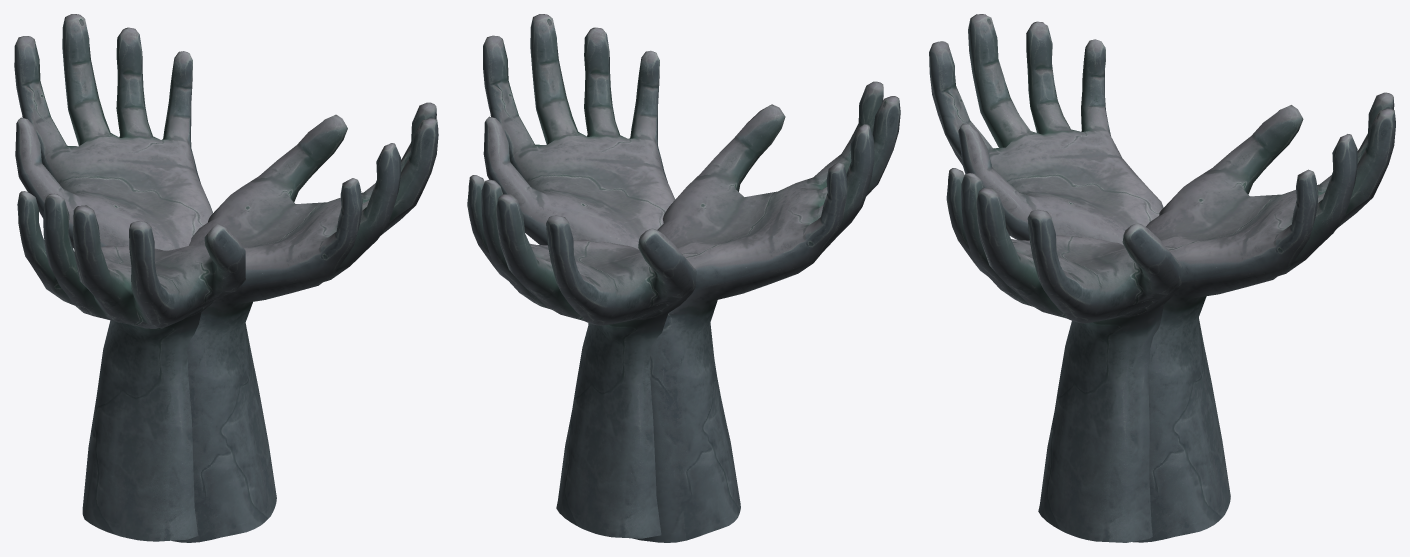
File: Fountain_Hands.fbx
3 renders of one model, left to right at view 1: azimuth 30°, elevation 25°; view 2: azimuth 150°, elevation 25°; view 3: azimuth 270°, elevation 25°, orthographic. The views are drawn at different scales.
Visible parts, largest first — view 1: Hands; view 2: Hands; view 3: Hands.
Boxes of the visible parts, x1=… form: Hands: x1=14, y1=14, x2=438, y2=542; Hands: x1=467, y1=14, x2=900, y2=542; Hands: x1=929, y1=14, x2=1395, y2=542.
Size of the model in its own units: 170 by 167 by 172.
Materials: 1 (1 with a texture image).
